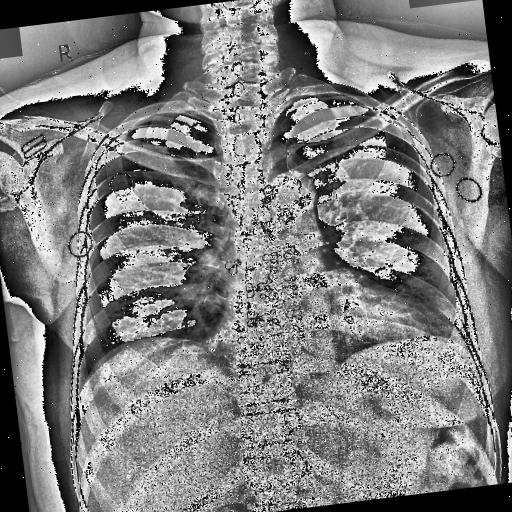0- Aortic enlargement: (264, 167, 324, 236)
3- Cardiomegaly: (194, 274, 442, 378), (202, 277, 436, 369), (202, 280, 436, 370)
